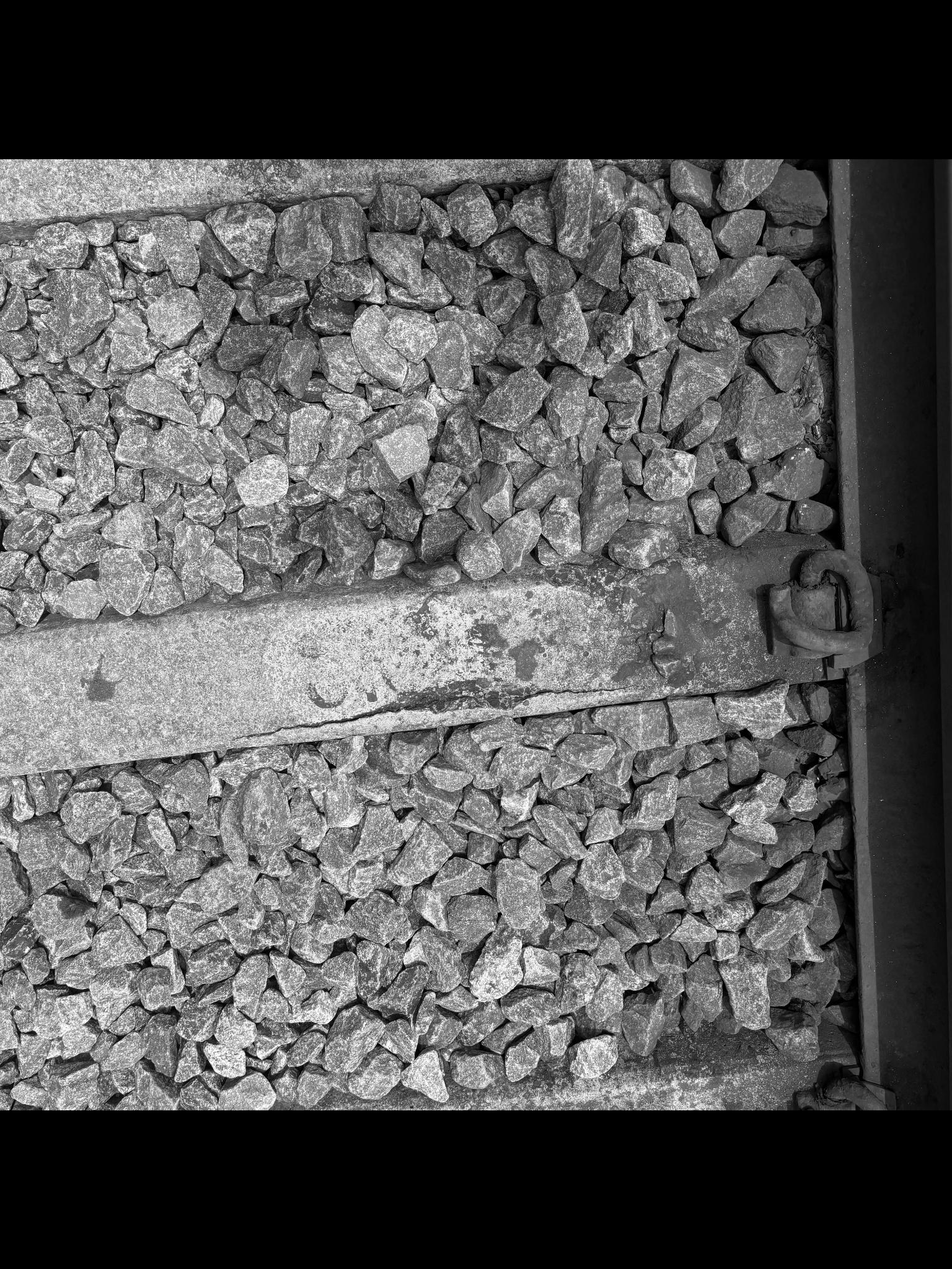cracks in midportion: (217, 653, 649, 750)
